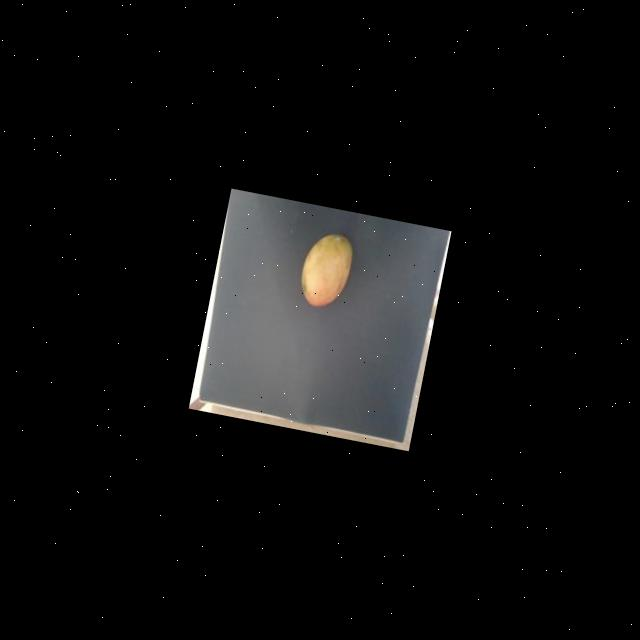Mango: (296, 230, 358, 314)
